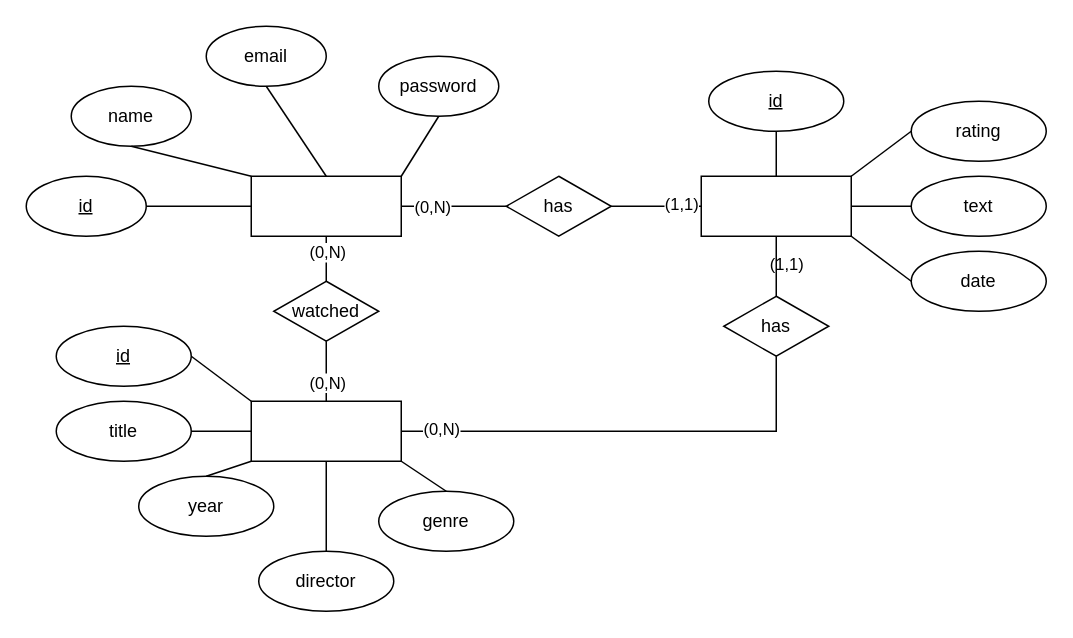
Some shapes in this 1073 by 638 pixel diagram are drawn without their labels. Each missing label, with the box of its shape:
Movie: (250, 400, 401, 461)
Review: (700, 175, 851, 236)
User: (250, 175, 401, 236)
